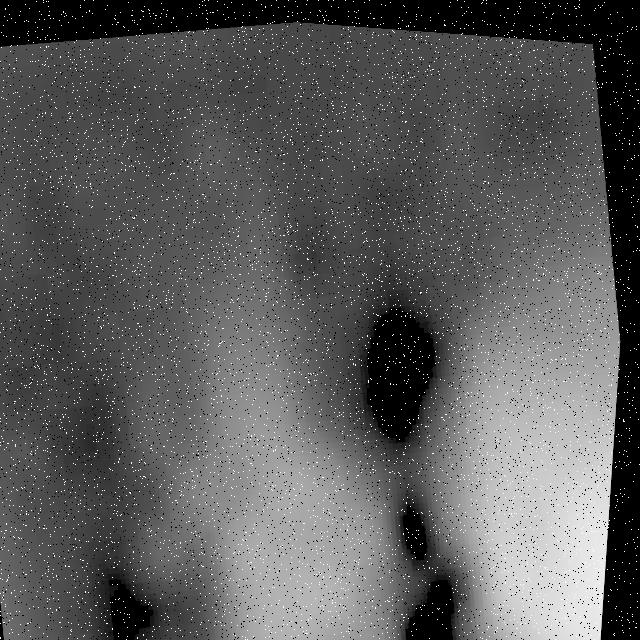person: (102, 249, 441, 640), (402, 145, 635, 640)
